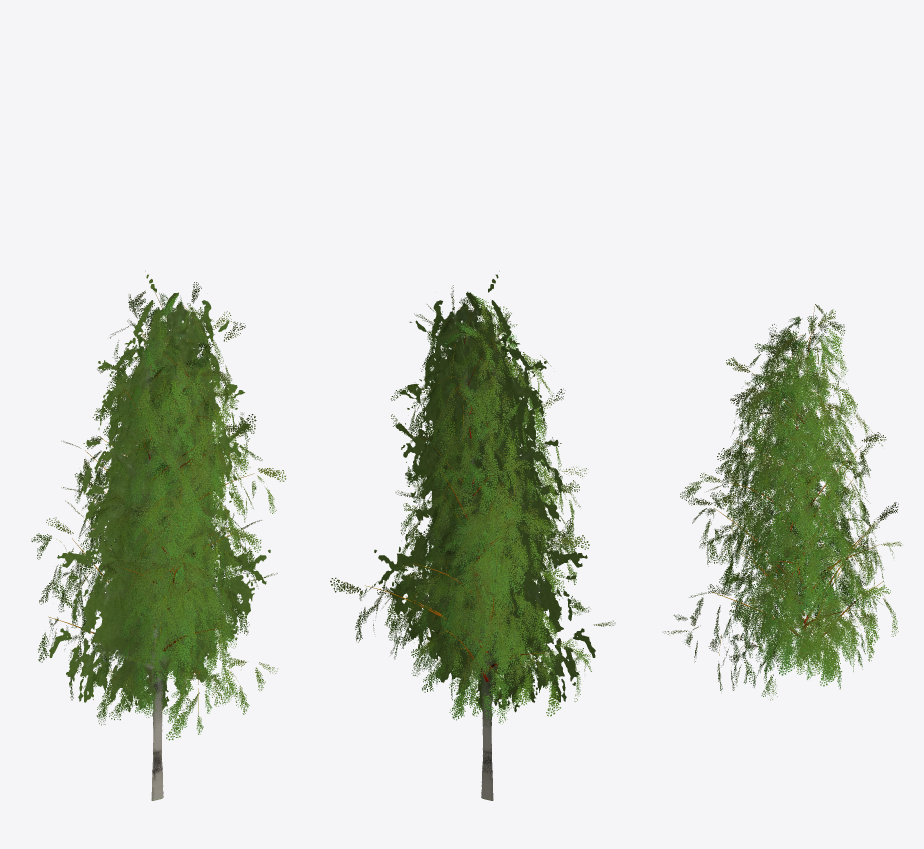
File: birke.glb
3 views of the same model, side by side, from view 1: azimuth 30°, elevation 25°; view 2: azimuth 150°, elevation 25°; view 3: azimuth 270°, elevation 25° (orthographic). The views are drawn at different scales.
Parts seen in each view (by area): view 1: v2_lod0, v1_lod0, v0_lod0, v1_imp, v2_imp, v0_imp; view 2: v0_lod0, v1_lod0, v2_imp, v1_imp, v2_lod0, v0_imp; view 3: v2_lod0, v0_lod0, v1_lod0.
Boxes of the visible parts, x1,y1,x2,y2 form: v2_lod0: (74,322,286,740); v1_lod0: (46,294,243,725); v0_lod0: (31,282,262,707); v1_imp: (66,323,252,800); v2_imp: (84,320,255,799); v0_imp: (49,271,270,800); v0_lod0: (330,285,591,724); v1_lod0: (377,320,615,720); v2_imp: (389,320,560,800); v1_imp: (392,331,578,800); v2_lod0: (382,306,588,688); v0_imp: (374,271,595,800); v2_lod0: (663,324,882,700); v0_lod0: (689,304,902,686); v1_lod0: (716,309,898,689).
Size of what is drawn, in the model's own units: 11.17 by 28.23 by 9.15.
Materials: 2 (2 with a texture image).
